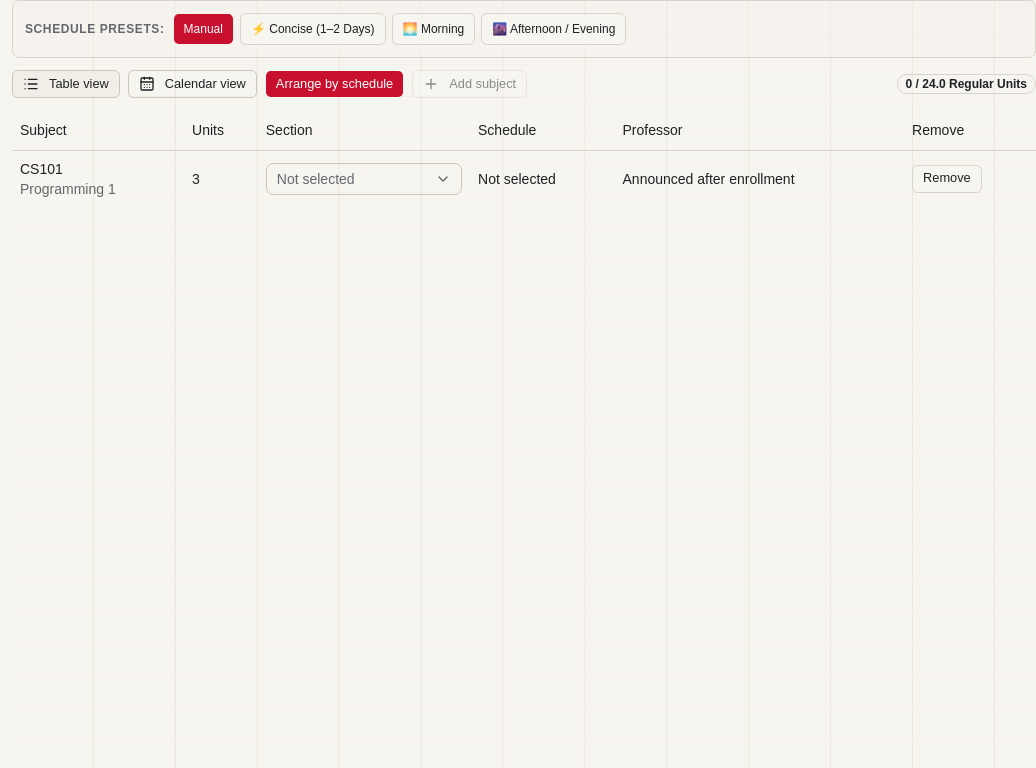
Test: EligibleSubjectTable › shows the picker option's own time in 12-hour clock time
Click the dropdown named "CS101 section": x=364, y=178 [266,162,462,194]
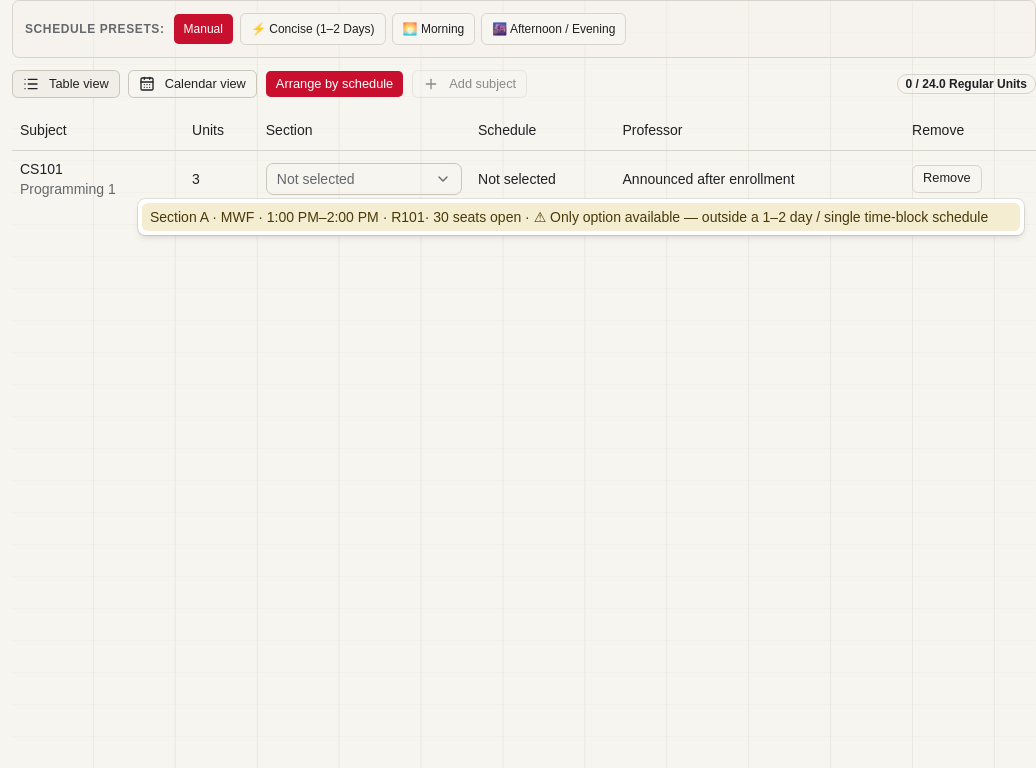
expect the option "1:00 PM–2:00 PM" is shown: met, box [142,203,1020,231]
